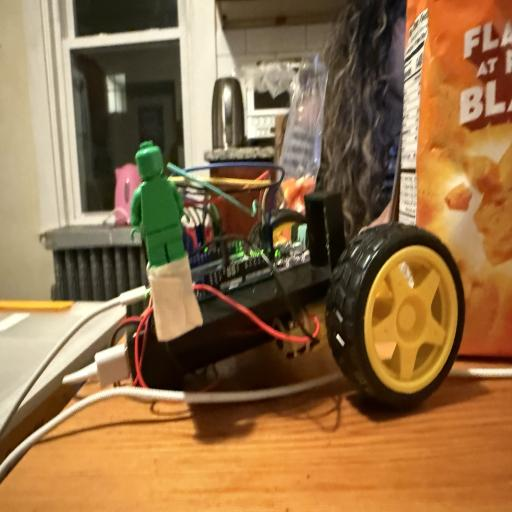Minifig: (131, 141, 187, 268)
